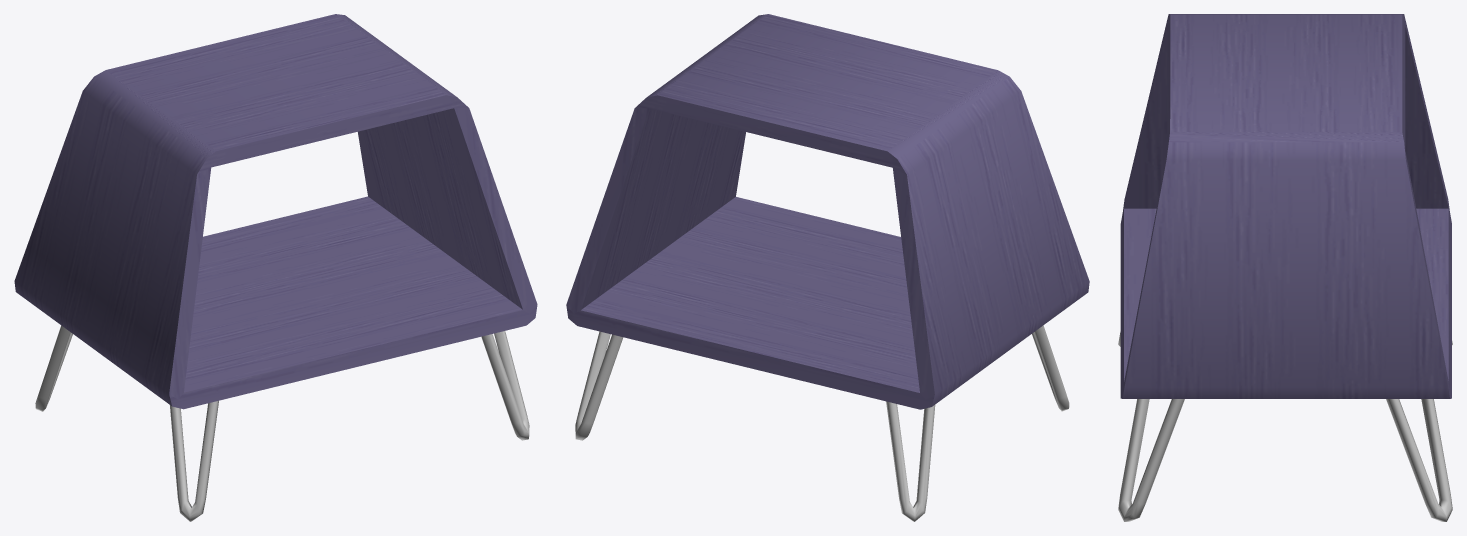
The model's file is Open_End_Table_08.FBX.
The picture shows the model from 3 angles, left to right: view 1: azimuth 30°, elevation 25°; view 2: azimuth 150°, elevation 25°; view 3: azimuth 270°, elevation 25°; orthographic projection. The views are drawn at different scales.
Parts seen in each view (by area): view 1: End_table; view 2: End_table; view 3: End_table.
Part boxes in pixels (<box>): End_table: <box>14,14,537,521</box>; End_table: <box>566,14,1089,521</box>; End_table: <box>1118,14,1452,521</box>.
Bounding box in the file's own units: 134 × 120 × 101.
